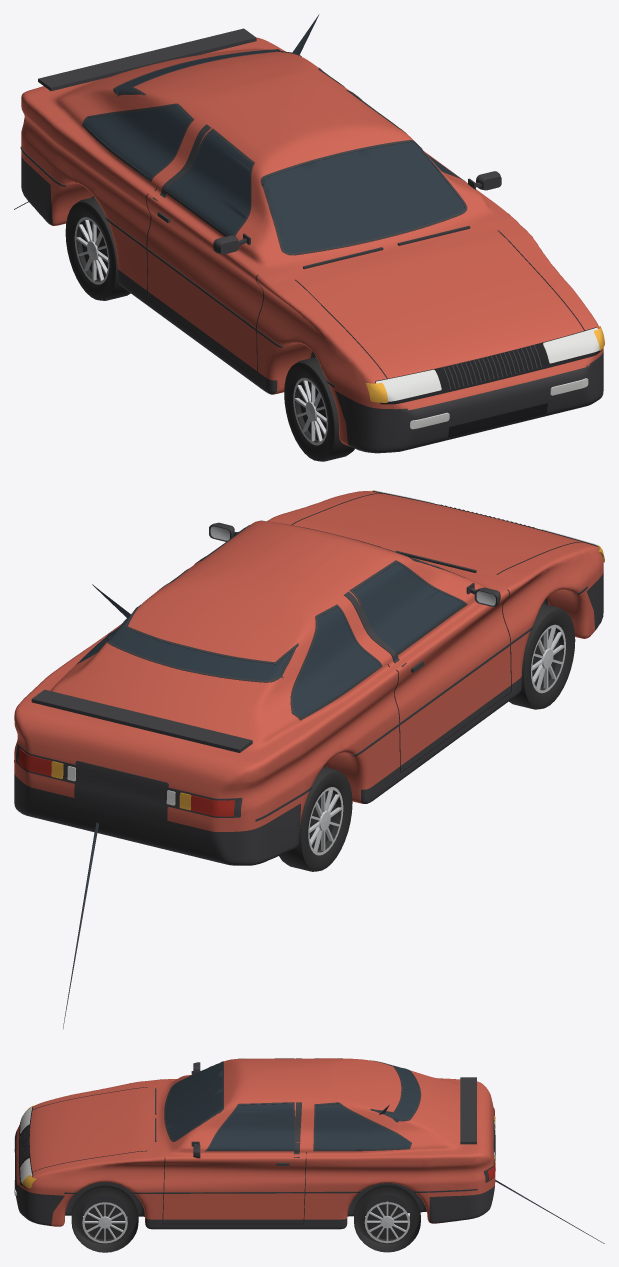
The picture shows the model from 3 angles, top to bottom: view 1: azimuth 30°, elevation 25°; view 2: azimuth 150°, elevation 25°; view 3: azimuth 270°, elevation 25°; orthographic projection. The views are drawn at different scales.
Visible parts, largest first — view 1: paint, glass, trim, wheel_fr, wheel_rr, headlights; view 2: paint, trim, glass, wheel_rr, wheel_fr, taillights; view 3: paint, glass, trim, wheel_fl, wheel_rl, headlights.
Boxes of the visible parts, x1=… form: paint: x1=21, y1=37, x2=603, y2=453; glass: x1=84, y1=16, x2=464, y2=252; trim: x1=14, y1=14, x2=602, y2=437; wheel_fr: x1=284, y1=357, x2=354, y2=461; wheel_rr: x1=65, y1=197, x2=130, y2=300; headlights: x1=376, y1=328, x2=599, y2=401; paint: x1=14, y1=491, x2=603, y2=865; trim: x1=14, y1=491, x2=597, y2=1028; glass: x1=72, y1=549, x2=464, y2=973; wheel_rr: x1=279, y1=766, x2=352, y2=871; wheel_fr: x1=509, y1=603, x2=575, y2=709; taillights: x1=18, y1=748, x2=234, y2=816; paint: x1=15, y1=1058, x2=495, y2=1229; glass: x1=165, y1=1062, x2=556, y2=1215; trim: x1=14, y1=1058, x2=604, y2=1243; wheel_fl: x1=71, y1=1185, x2=138, y2=1252; wheel_rl: x1=354, y1=1185, x2=420, y2=1252; headlights: x1=20, y1=1106, x2=32, y2=1183.
Size of the model in its own units: 1.8 by 1.72 by 5.02.
